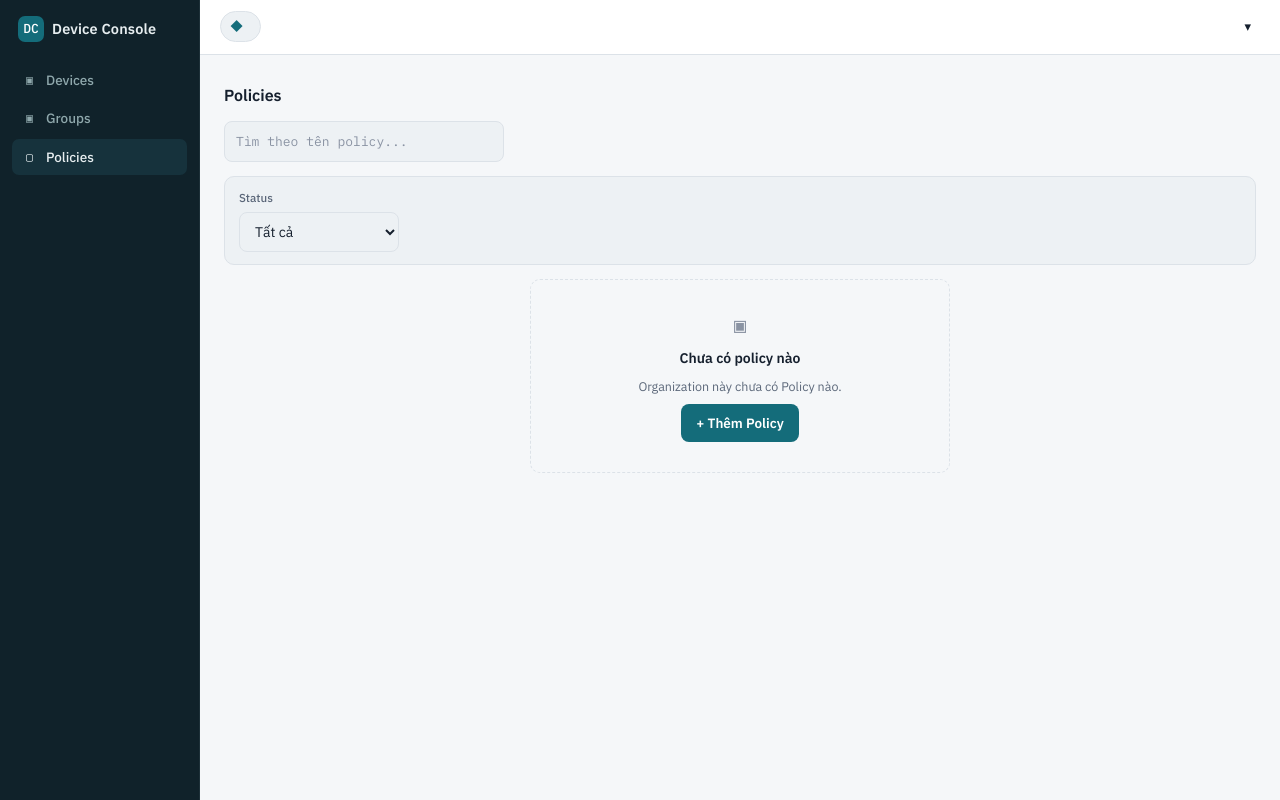
Test: PolicyListView › empty states › shows "Chưa có policy nào" with the only "+ Thêm Policy" CTA when the org has no policies (A19)
expect the element with test id "empty-state" shows "Chưa có policy nào": met, box x1=680 y1=349 x2=800 y2=367
Click the button with test id "add-policy-button" at point(740, 423), box x1=681 y1=404 x2=799 y2=442
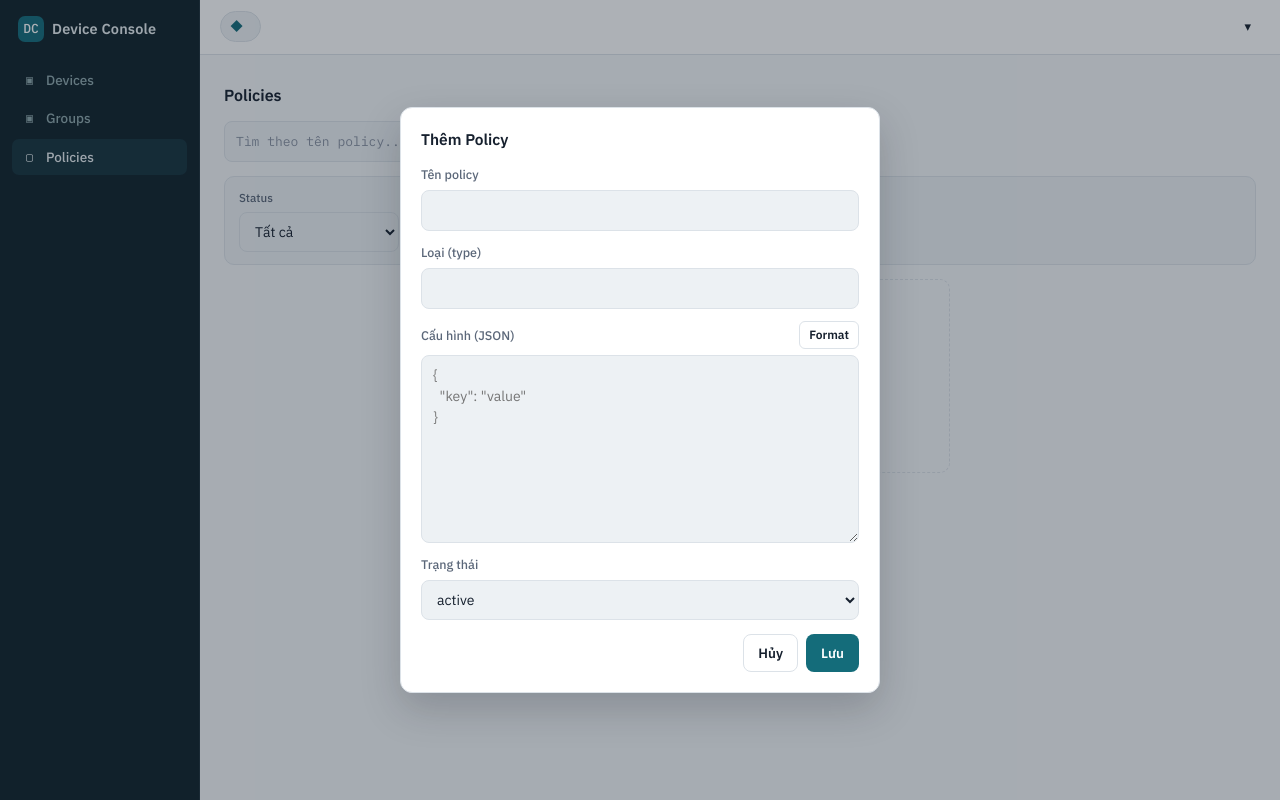
expect the element with test id "policy-form-modal" is shown: met
